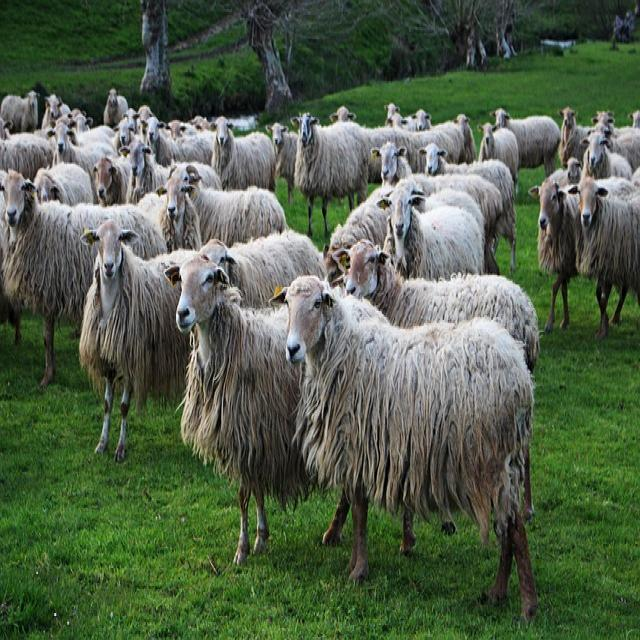sheep: (268, 272, 538, 622), (161, 251, 351, 566), (0, 168, 168, 388)
